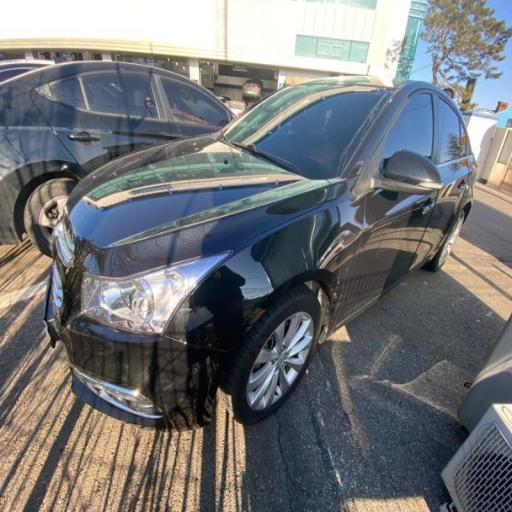scratch: (117, 261, 229, 439)
